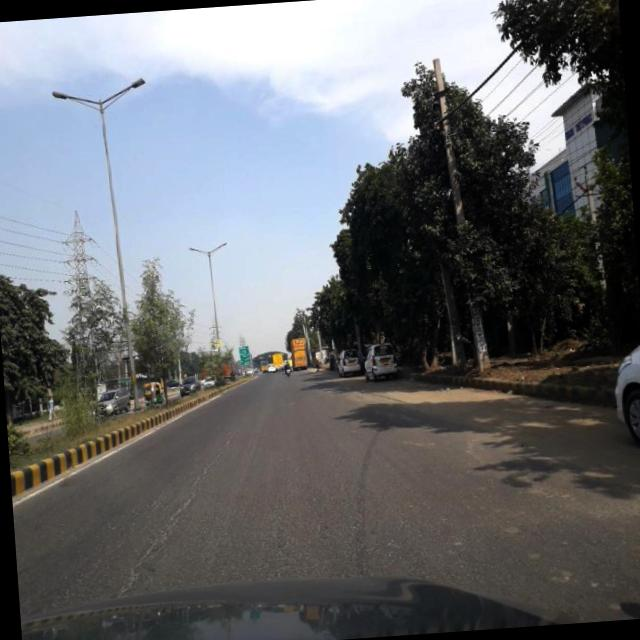pothole: (177, 426, 240, 508), (122, 510, 185, 592)
